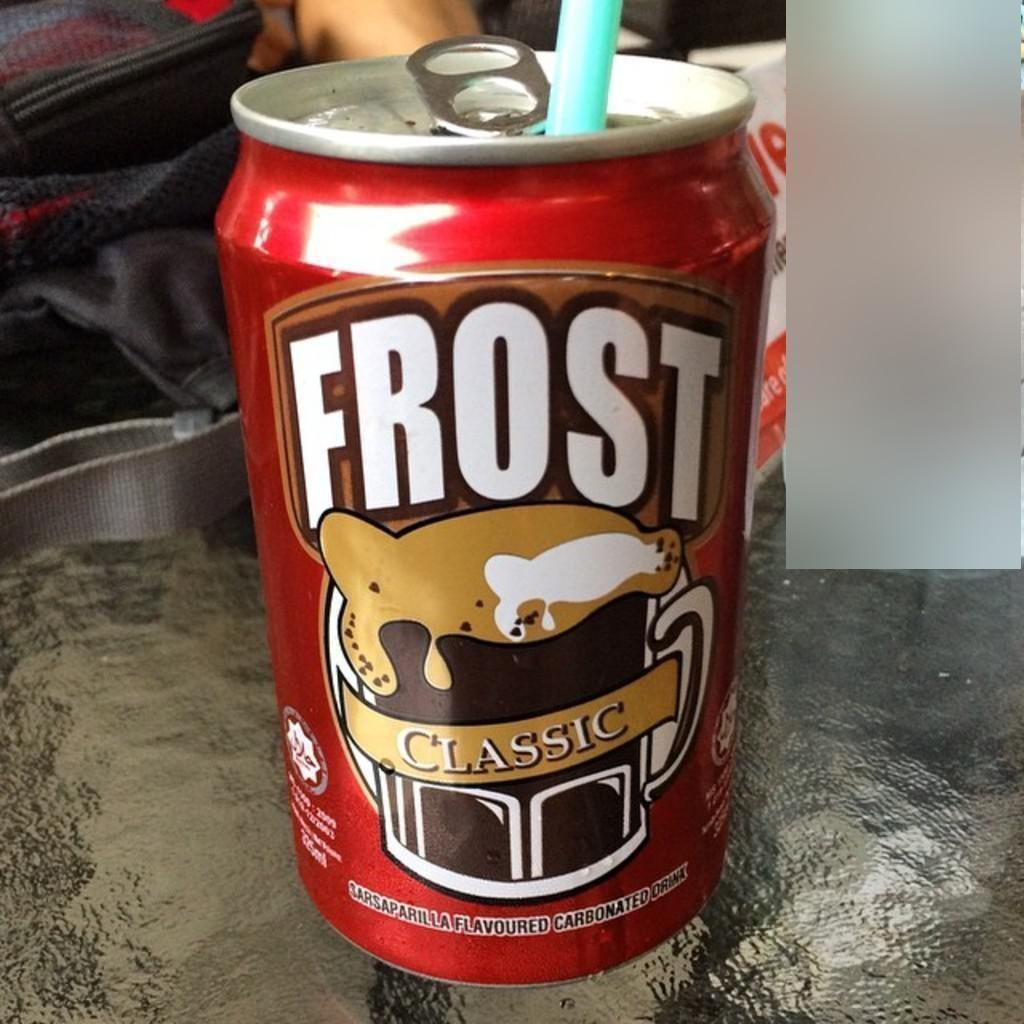tin can: (215, 37, 781, 987)
